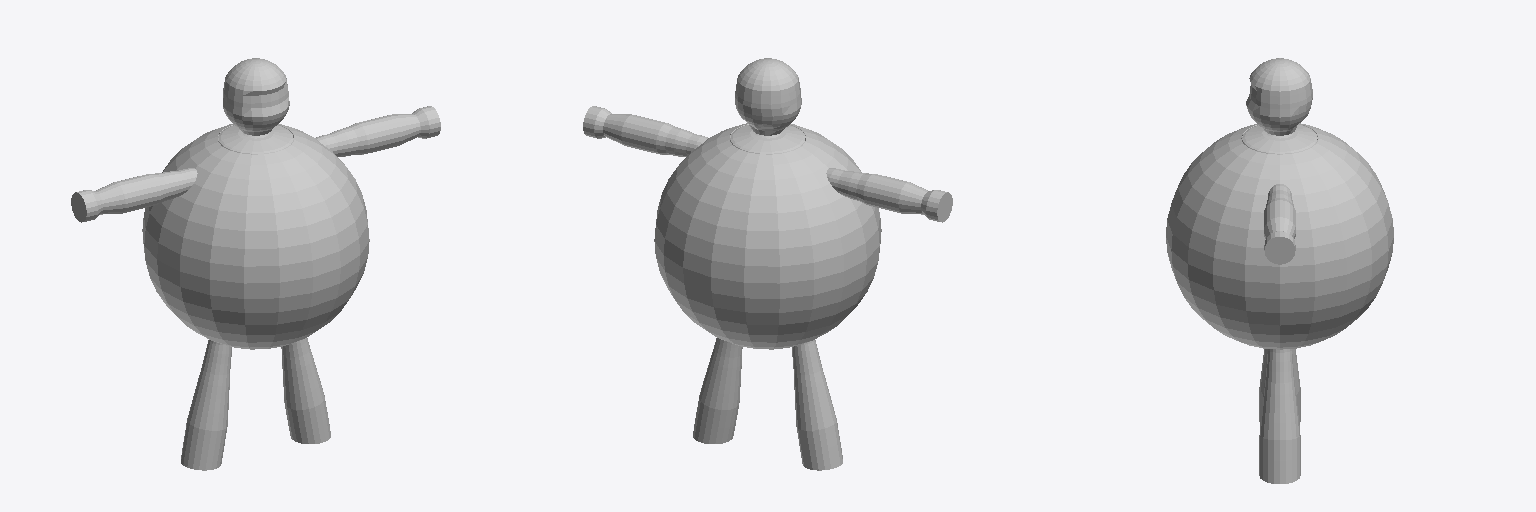
File: dummy 1.obj
3 renders of one model, left to right at view 1: azimuth 30°, elevation 25°; view 2: azimuth 150°, elevation 25°; view 3: azimuth 270°, elevation 25°, orthographic.
Visible parts, largest first — view 1: pSphere3, pSphere2; view 2: pSphere3, pSphere2; view 3: pSphere3, pSphere2.
Part boxes in pixels (left/top/right/bottom): pSphere3: left=142, top=124, right=369, bottom=349; pSphere2: left=71, top=58, right=440, bottom=470; pSphere3: left=654, top=123, right=881, bottom=349; pSphere2: left=583, top=58, right=952, bottom=470; pSphere3: left=1166, top=123, right=1393, bottom=349; pSphere2: left=1241, top=58, right=1318, bottom=483.
Bounding box in the file's own units: 8.64 × 9.07 × 4.83.